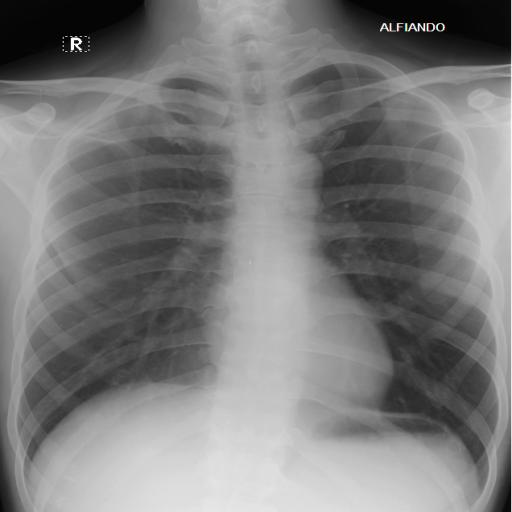normal: (11, 38, 505, 496)
